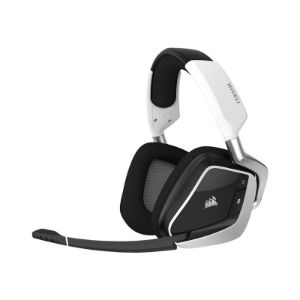headset: (118, 45, 269, 252)
